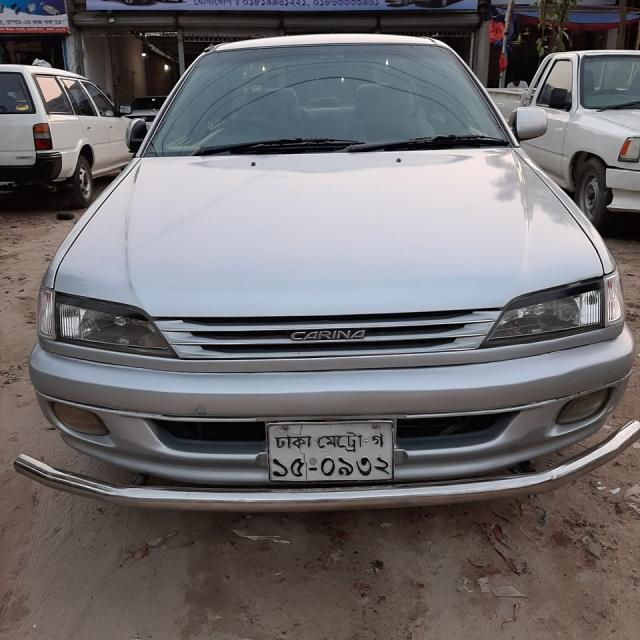car: (25, 26, 640, 534), (518, 43, 640, 219), (0, 58, 143, 206)
